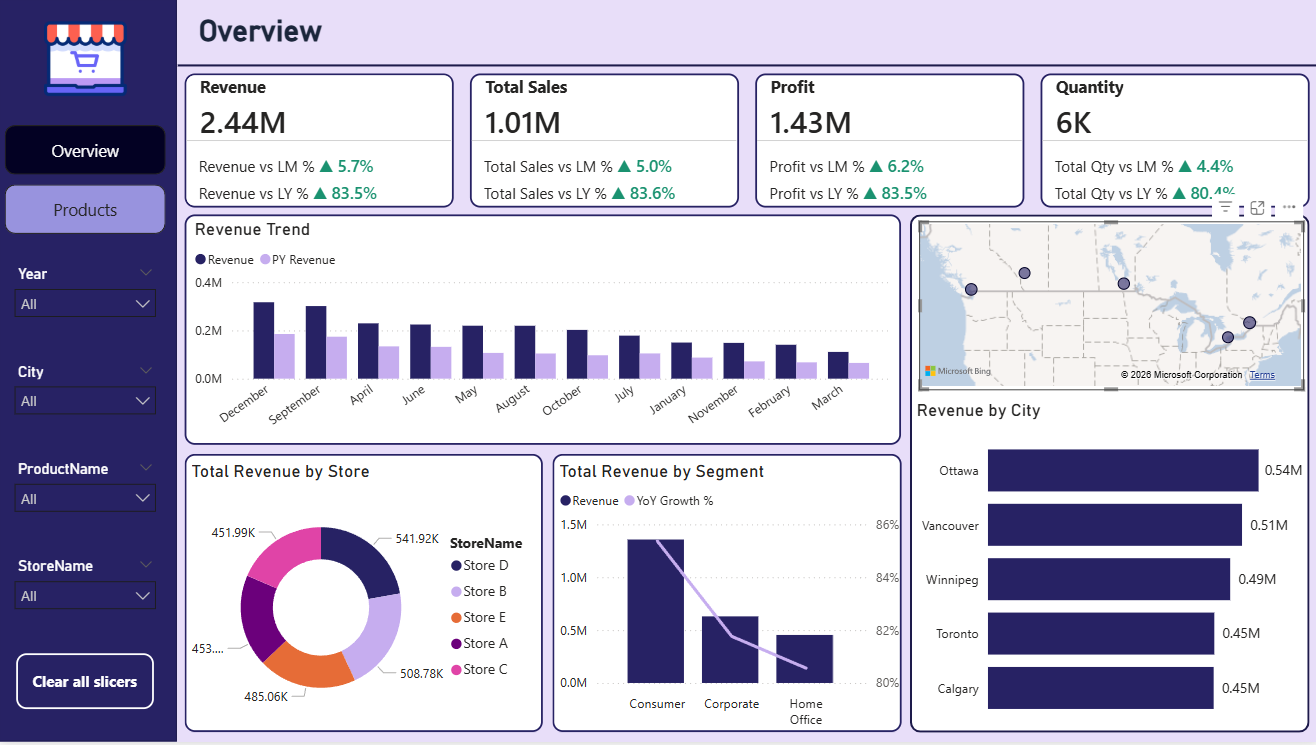

The dashboard page shown, as its layout file describes it:
{"tool":"powerbi","page":{"name":"Overview","canvas":[1280,720],"ordinal":0},"visuals":[{"type":"shape","box":[0,0,172.5,720],"z":0},{"type":"shape","box":[173,0,1107,128.8],"z":1000},{"type":"slicer","fields":{"Values":["Calendar.Year"]},"box":[5.3,252.8,156.2,70],"z":1000,"group":"g3"},{"type":"textbox","box":[188.5,8.4,140.8,48.9],"z":2000},{"type":"slicer","fields":{"Values":["Stores.City"]},"box":[5.3,347.3,156.2,70],"z":2000,"group":"g3"},{"type":"group","id":"g1","title":"Group 1","box":[180,72.5,1091.2,130],"z":3000},{"type":"cardVisual","fields":{"Data":["DAX.Revenue"]},"box":[180,72.5,261.2,130],"z":3000,"group":"g1"},{"type":"slicer","fields":{"Values":["Products.ProductName"]},"box":[5.3,441.8,156.2,70],"z":3000,"group":"g3"},{"type":"cardVisual","fields":{"Data":["DAX.Total Sales"]},"box":[456.7,72.5,261.2,130],"z":4000,"group":"g1"},{"type":"clusteredColumnChart","title":"Revenue Trend","fields":{"Y":["DAX.Revenue","DAX.PY Revenue"],"Category":["Calendar.Month Name"]},"box":[179.8,209,695,223.8],"z":4000},{"type":"image","box":[36.6,17.5,93.8,80],"z":5000,"group":"g3"},{"type":"cardVisual","fields":{"Data":["DAX.Profit"]},"box":[733.4,72.5,261.2,130],"z":5000,"group":"g1"},{"type":"shape","box":[883.8,208.8,387.5,502.5],"z":5000},{"type":"cardVisual","fields":{"Data":["DAX.Total Qty"]},"box":[1010.1,72.5,261.2,130],"z":6000,"group":"g1"},{"type":"map","fields":{"Category":["Stores.City"],"Size":["DAX.Revenue"]},"box":[892.1,215.7,373.4,163.4],"z":6000},{"type":"clusteredBarChart","fields":{"Y":["DAX.Revenue"],"Category":["Stores.City"]},"box":[890,378.8,373.8,332.5],"z":7000},{"type":"actionButton","box":[16.7,634.6,133.6,53.7],"z":7000,"group":"g2"},{"type":"donutChart","title":"Total Revenue by Store","fields":{"Category":["Stores.StoreName"],"Y":["DAX.Revenue"]},"box":[180,441.2,347.5,270],"z":8000},{"type":"lineClusteredColumnComboChart","title":"Total Revenue by Segment","fields":{"Category":["Customers.Segment"],"Y":["DAX.Revenue"],"Y2":["DAX.YoY Growth %"]},"box":[536.2,441.2,338.8,270],"z":9000},{"type":"group","id":"g2","title":"Group 2","box":[5.3,17.5,156.3,670.8],"z":10000},{"type":"pageNavigator","box":[5.3,122,156.2,106.2],"z":12000,"group":"g3"},{"type":"slicer","fields":{"Values":["Stores.StoreName"]},"box":[5.3,536.3,156.3,70.4],"z":18000,"group":"g3"},{"type":"group","id":"g3","title":"Group 1","box":[5.3,17.5,156.3,589.2],"z":18001,"group":"g2"}]}

Visuals, with their boxes on the page's 1280x720 design canvas (x1, y1, x2, y2). These are canvas units, not pixel positions in the 1316x745 screenshot, which may show the page scaled, cropped or inside an application window:
shape: 0,0,172,720
shape: 173,0,1280,129
slicer - Calendar.Year: 5,253,162,323
textbox: 188,8,329,57
slicer - Stores.City: 5,347,162,417
"Group 1" group: 180,72,1271,202
cardVisual - DAX.Revenue: 180,72,441,202
slicer - Products.ProductName: 5,442,162,512
cardVisual - DAX.Total Sales: 457,72,718,202
"Revenue Trend" clusteredColumnChart: 180,209,875,433
image: 37,18,130,98
cardVisual - DAX.Profit: 733,72,995,202
shape: 884,209,1271,711
cardVisual - DAX.Total Qty: 1010,72,1271,202
map - Stores.City x DAX.Revenue: 892,216,1266,379
clusteredBarChart - DAX.Revenue x Stores.City: 890,379,1264,711
actionButton: 17,635,150,688
"Total Revenue by Store" donutChart: 180,441,528,711
"Total Revenue by Segment" lineClusteredColumnComboChart: 536,441,875,711
"Group 2" group: 5,18,162,688
pageNavigator: 5,122,162,228
slicer - Stores.StoreName: 5,536,162,607
"Group 1" group: 5,18,162,607
